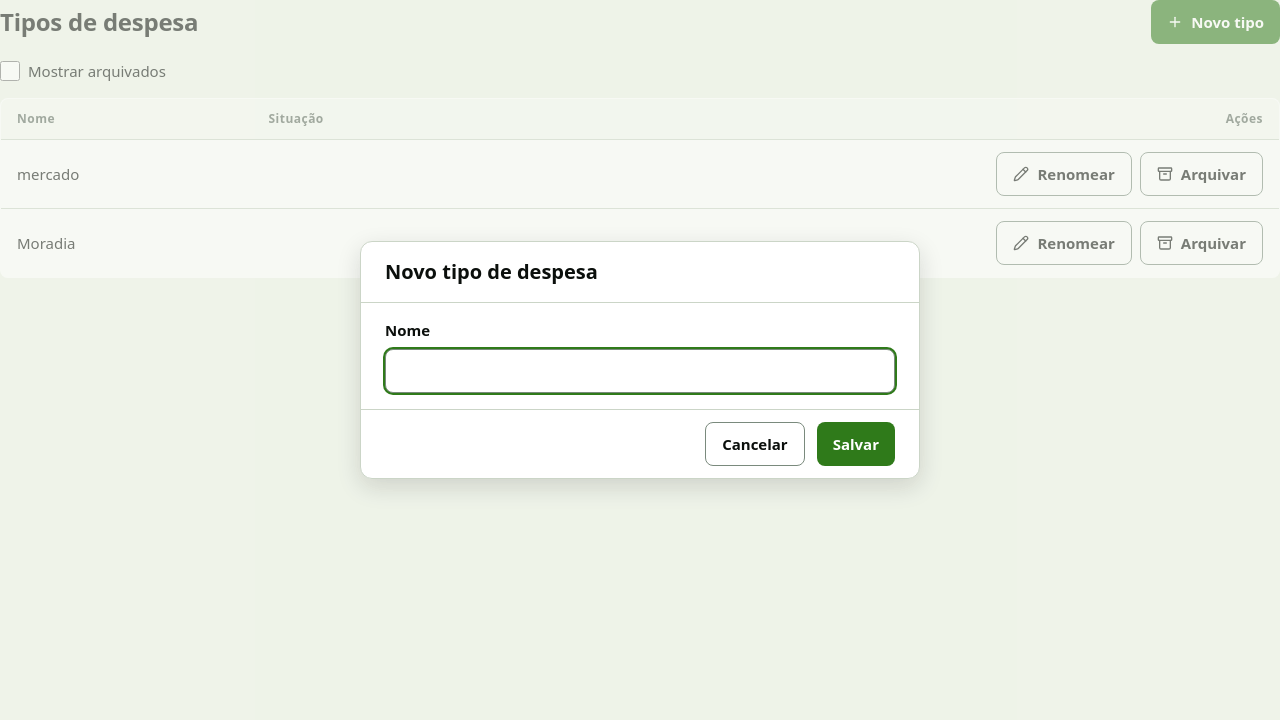
ExpenseTypesPage › shows any other write error in the form alert
In the field labelled "Nome": (640, 371) x1=385 y1=349 x2=895 y2=393, type "Lazer"
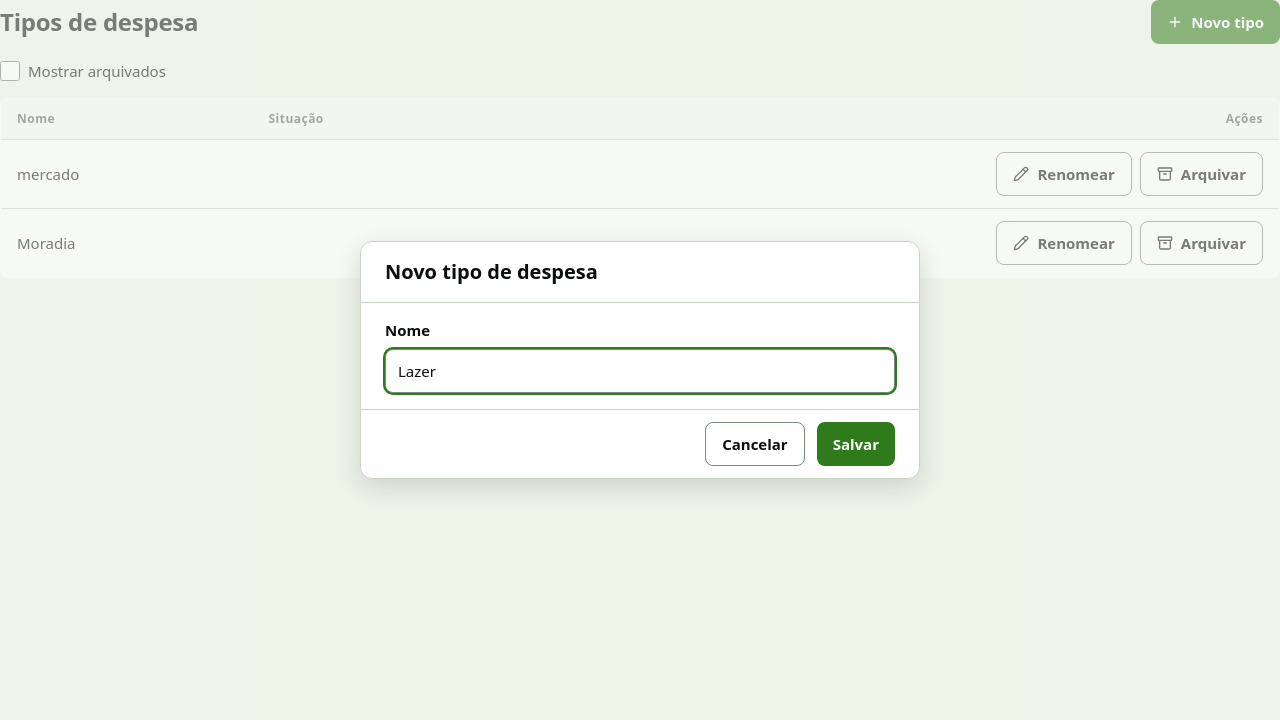
Click the button "Salvar": (856, 444) x1=817 y1=422 x2=895 y2=466
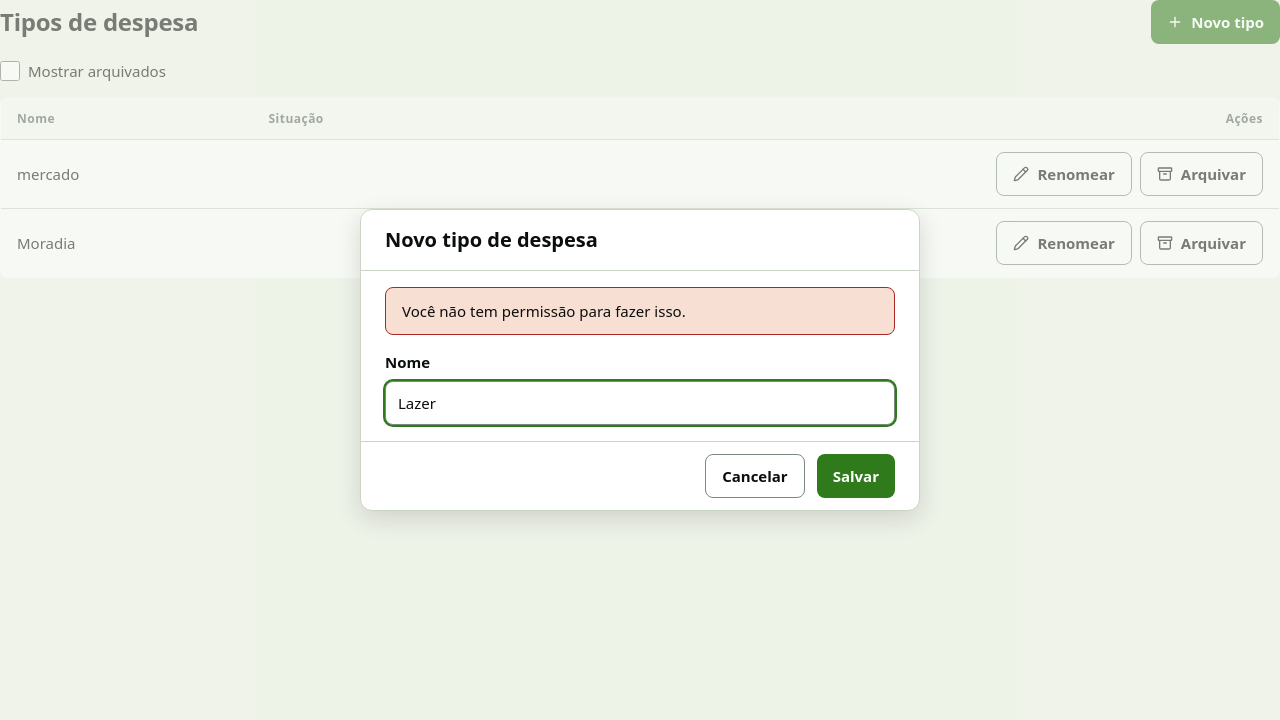
Expected: the message "Você não tem permissão para fazer isso." is shown, x1=385 y1=287 x2=895 y2=335
